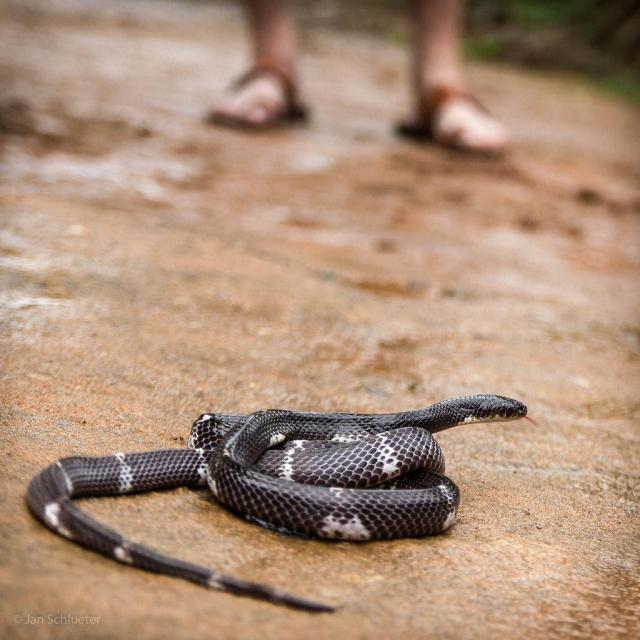Snake: (24, 391, 535, 613)
